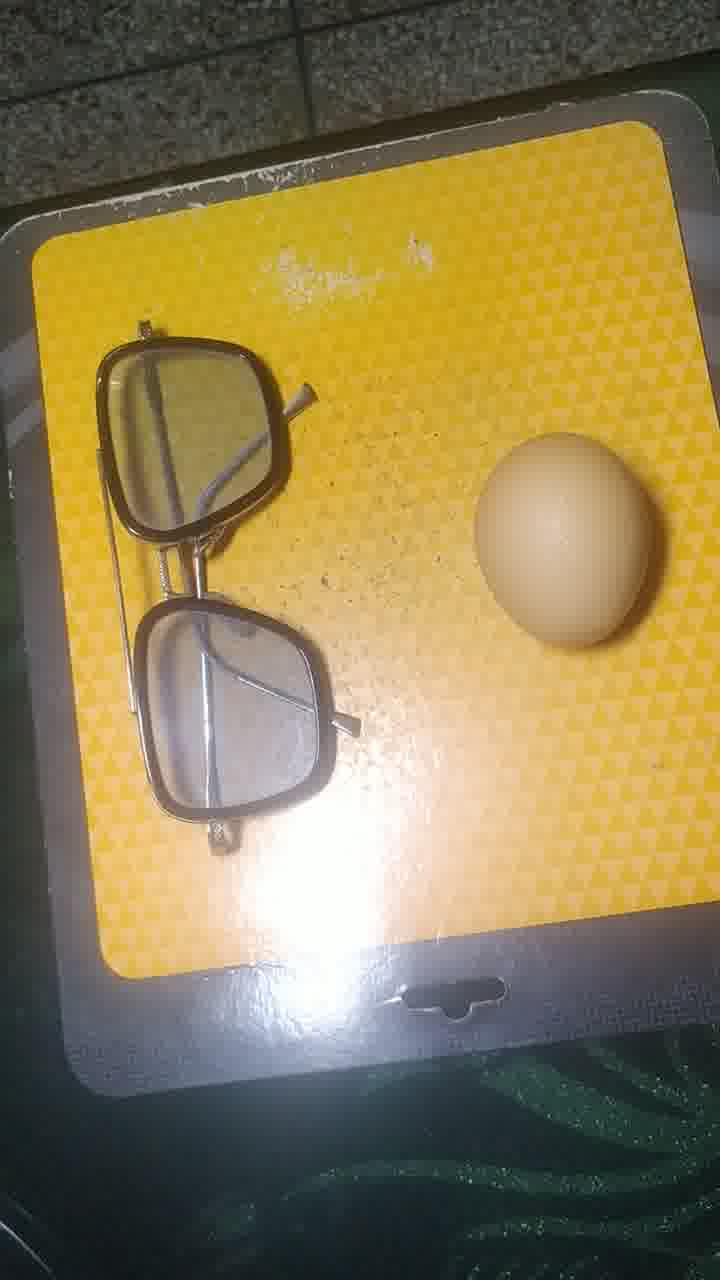egg: (474, 427, 663, 653)
sunglass: (91, 318, 388, 864)
